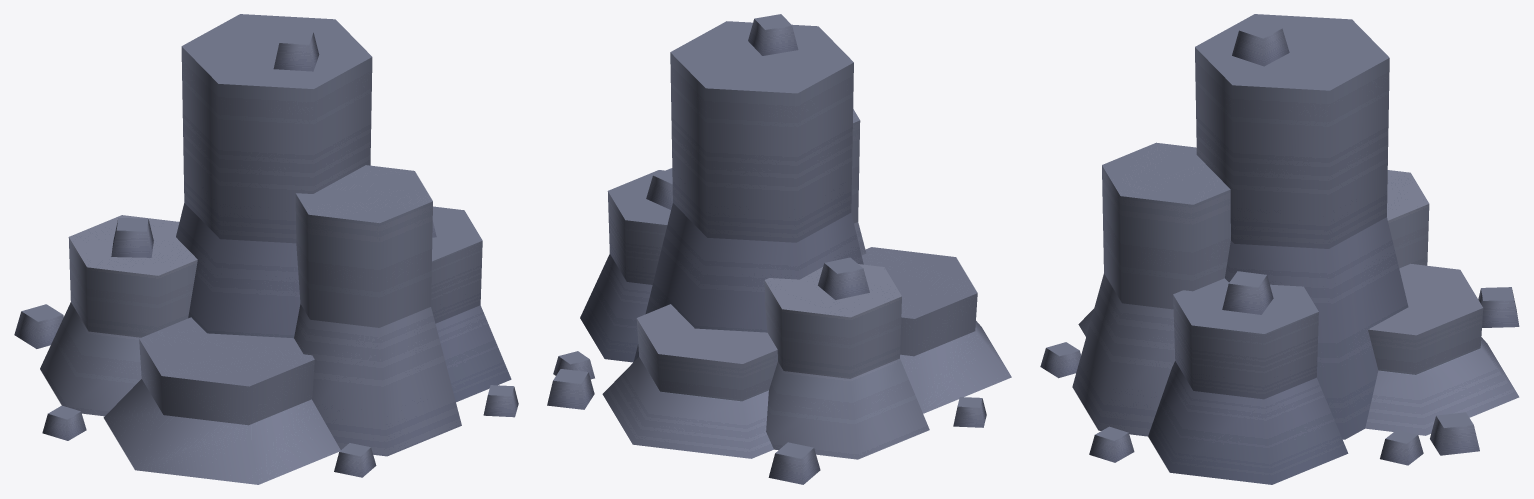
File: rocks-b_lev2.glb
3 views of the same model, side by side, from view 1: azimuth 30°, elevation 25°; view 2: azimuth 150°, elevation 25°; view 3: azimuth 270°, elevation 25° (orthographic). The views are drawn at different scales.
Visible parts, largest first — view 1: rocks-b_lev2; view 2: rocks-b_lev2; view 3: rocks-b_lev2.
Boxes of the visible parts, <box> form: rocks-b_lev2: <box>14,14,518,484</box>; rocks-b_lev2: <box>547,14,1011,484</box>; rocks-b_lev2: <box>1040,14,1519,484</box>.
Bounding box in the file's own units: 16.98 × 13.2 × 16.
1 material, 1 textured.
